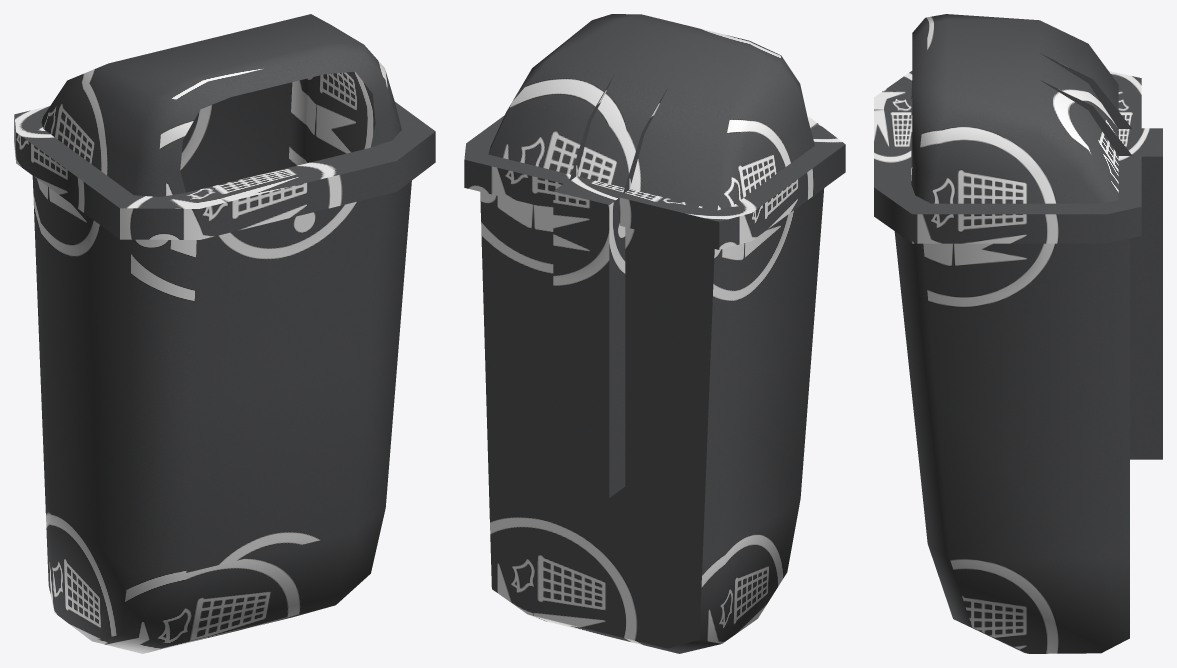
Rendered from Waste-Bin_Type23.FBX.
3 views of the same model, side by side, from view 1: azimuth 30°, elevation 25°; view 2: azimuth 150°, elevation 25°; view 3: azimuth 270°, elevation 25° (orthographic). The views are drawn at different scales.
Visible parts, largest first — view 1: WASTEBIN_TYPE23_L9_001; view 2: WASTEBIN_TYPE23_L9_001; view 3: WASTEBIN_TYPE23_L9_001.
Boxes of the visible parts, x1,y1,x2,y2 form: WASTEBIN_TYPE23_L9_001: (14,14,435,653); WASTEBIN_TYPE23_L9_001: (464,14,845,653); WASTEBIN_TYPE23_L9_001: (874,14,1162,653).
Bounding box in the file's own units: 0.4339 × 0.7965 × 0.368.
